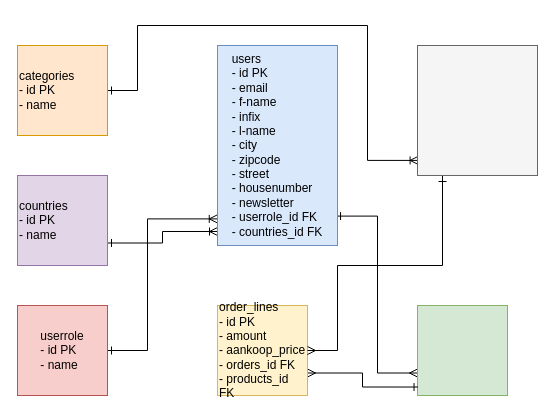
The diagram is 555 pixels wide and 418 high, and some of its shapes have lost their labels. The centre of each missing label's shape, as x and y in pixels:
orders - id PK - date - paid - shipped - users_id FK: point (462, 350)
products - id PK - code - title - price - stock - desc - categories_ id FK: point (477, 110)
